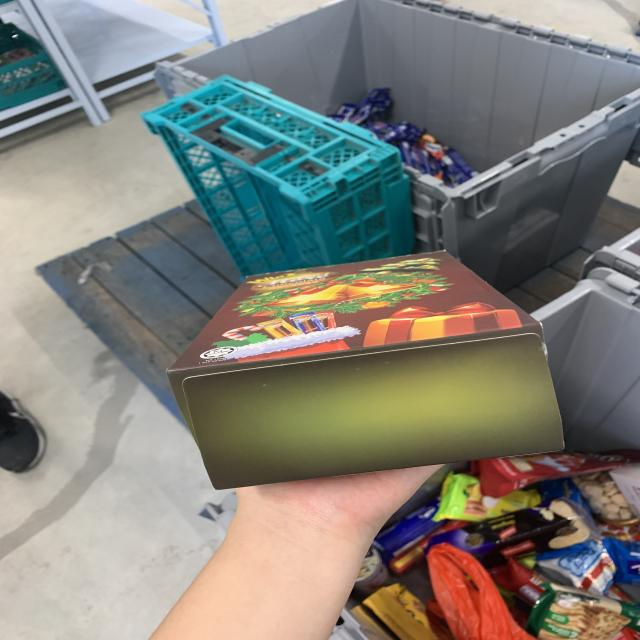object_name: (224, 286, 525, 441)
